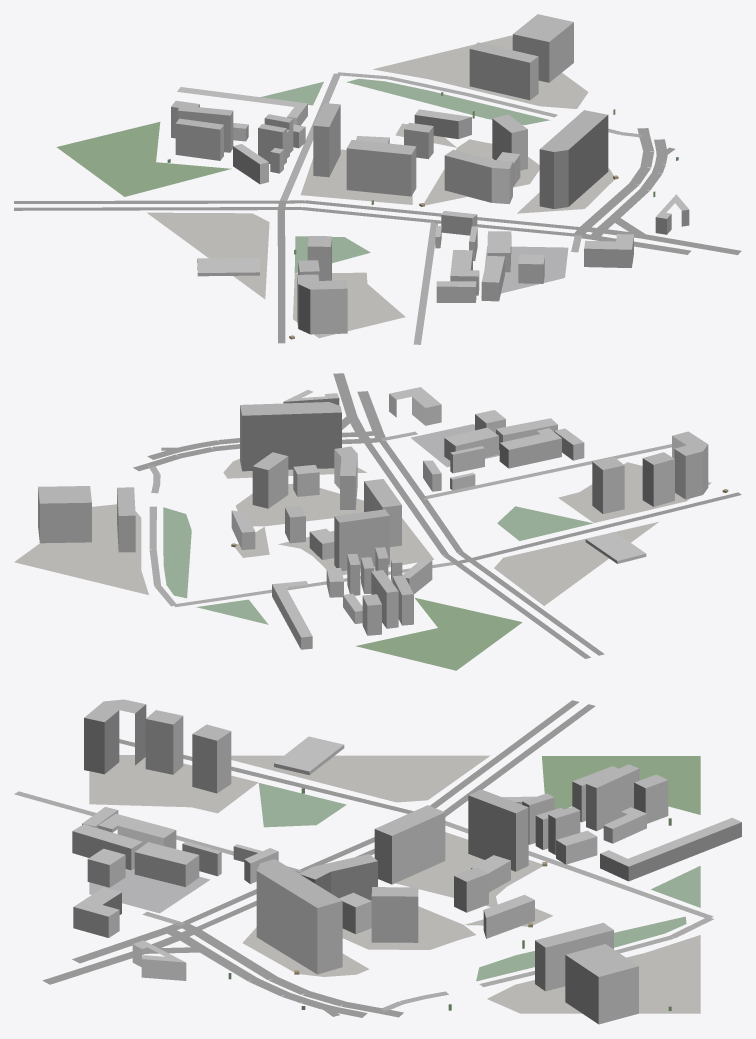
3 views of the same model, one above another, from view 1: azimuth 30°, elevation 25°; view 2: azimuth 150°, elevation 25°; view 3: azimuth 270°, elevation 25° (orthographic). The views are drawn at different scales.
Bounding box in the file's own units: 628 × 61.38 × 595.
